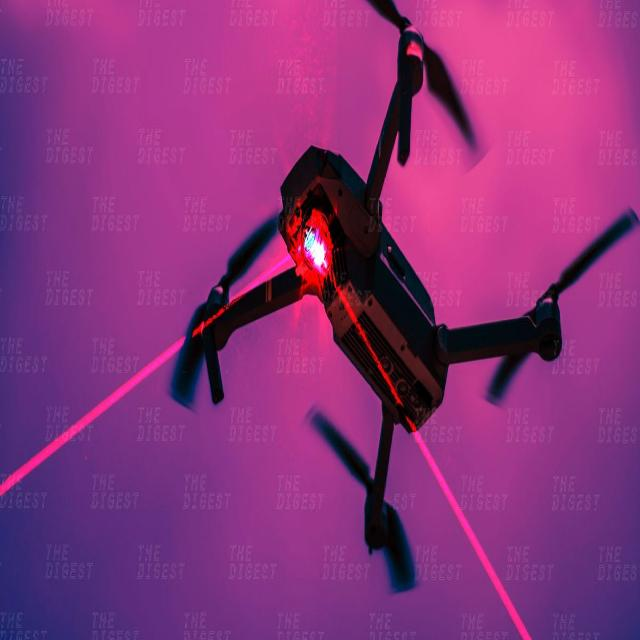drone: (187, 63, 609, 571)
